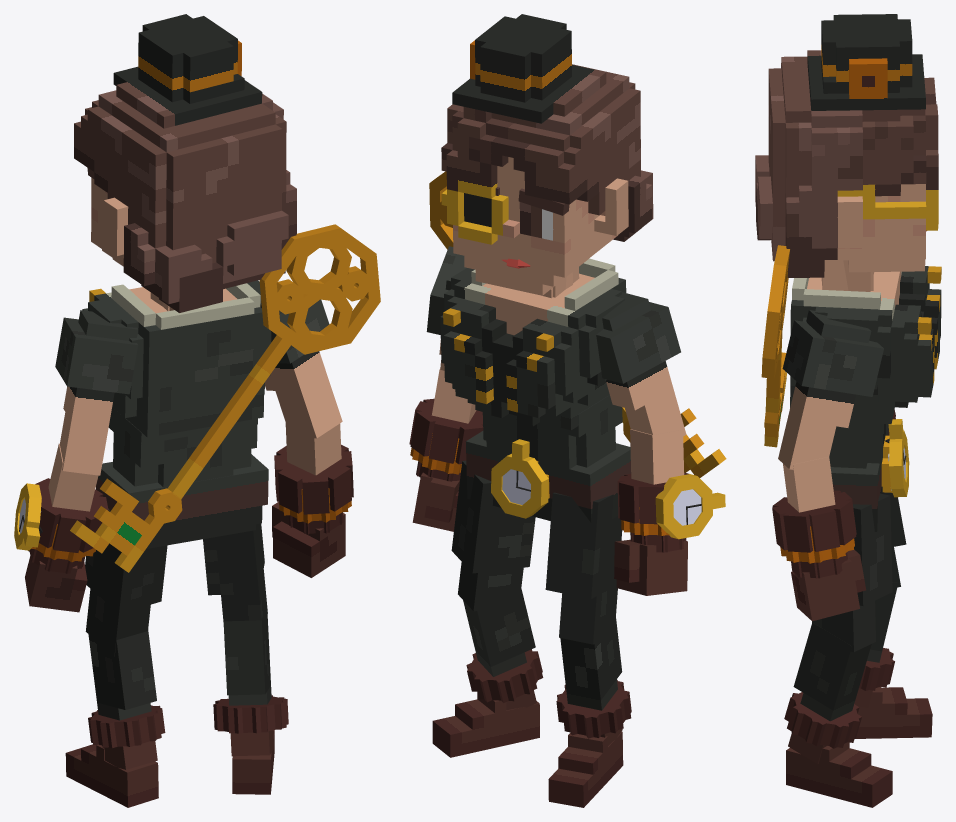
File: female-a1.static.glb
The picture shows the model from 3 angles, left to right: view 1: azimuth 30°, elevation 25°; view 2: azimuth 150°, elevation 25°; view 3: azimuth 270°, elevation 25°; orthographic projection.
Visible parts, largest first — view 1: Head-Local, Chest-Local, Left_Arm-Local, Hip-Local, Middle_Key-Local, Left_Leg-Local, Left_Thigh-Local, Right_Leg-Local, Belly-Local, Right_Arm-Local, Right_Thigh-Local, Left_Foot-Local (+15 smaller); view 2: Head-Local, Chest-Local, Left_Thigh-Local, Left_Arm-Local, Right_Thigh-Local, Belly-Local, Right_Leg-Local, Hip-Local, Left_Leg-Local, Right_Foot-Local, Left_Foot-Local, Left_Hand-Local (+14 smaller); view 3: Head-Local, Chest-Local, Right_Arm-Local, Right_Leg-Local, Right_Thigh-Local, Right_Foot-Local, Left_Foot-Local, Right_Hand$$(1)-Local, Hip-Local, Right_Forearm$$(1)-Local, Belly-Local, MAs$$gru5(2)-Local (+13 smaller).
Boxes of the visible parts, left/top/right/bottom form: Head-Local: left=74, top=14, right=296, bottom=312; Chest-Local: left=82, top=280, right=271, bottom=444; Left_Arm-Local: left=55, top=310, right=138, bottom=475; Hip-Local: left=96, top=454, right=268, bottom=548; Middle_Key-Local: left=70, top=335, right=290, bottom=572; Left_Leg-Local: left=88, top=630, right=165, bottom=769; Left_Thigh-Local: left=85, top=509, right=167, bottom=656; Right_Leg-Local: left=216, top=609, right=284, bottom=756; Belly-Local: left=108, top=407, right=257, bottom=487; Right_Arm-Local: left=260, top=299, right=342, bottom=438; Right_Thigh-Local: left=203, top=523, right=267, bottom=621; Left_Foot-Local: left=65, top=744, right=158, bottom=807; Head-Local: left=441, top=14, right=653, bottom=297; Chest-Local: left=440, top=258, right=626, bottom=430; Left_Thigh-Local: left=545, top=492, right=622, bottom=644; Left_Arm-Local: left=596, top=292, right=686, bottom=436; Right_Thigh-Local: left=451, top=460, right=535, bottom=611; Belly-Local: left=475, top=395, right=622, bottom=469; Right_Leg-Local: left=463, top=589, right=543, bottom=710; Hip-Local: left=465, top=431, right=631, bottom=522; Left_Leg-Local: left=556, top=618, right=631, bottom=745; Right_Foot-Local: left=432, top=692, right=539, bottom=757; Left_Foot-Local: left=548, top=731, right=623, bottom=807; Left_Hand-Local: left=614, top=539, right=687, bottom=595; Head-Local: left=755, top=14, right=938, bottom=290; Chest-Local: left=790, top=260, right=941, bottom=424; Right_Arm-Local: left=778, top=310, right=883, bottom=469; Right_Leg-Local: left=784, top=623, right=871, bottom=763; Right_Thigh-Local: left=812, top=493, right=892, bottom=652; Right_Foot-Local: left=786, top=742, right=892, bottom=807; Left_Foot-Local: left=855, top=686, right=932, bottom=738; Right_Hand$$(1)-Local: left=791, top=549, right=866, bottom=621; Hip-Local: left=830, top=424, right=892, bottom=531; Right_Forearm$$(1)-Local: left=783, top=456, right=835, bottom=512; Belly-Local: left=829, top=422, right=887, bottom=468; MAs$$gru5(2)-Local: left=772, top=490, right=856, bottom=552.
Bounding box in the file's own units: 29.23 × 63.63 × 14.6.
Materials: 109 (109 with a texture image).
